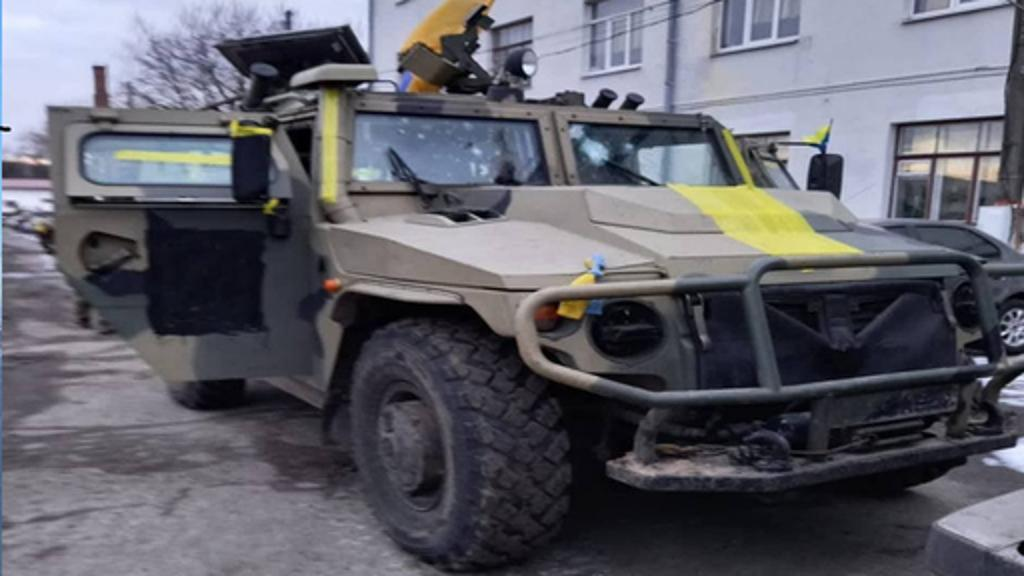CAR: (36, 20, 1018, 566)
